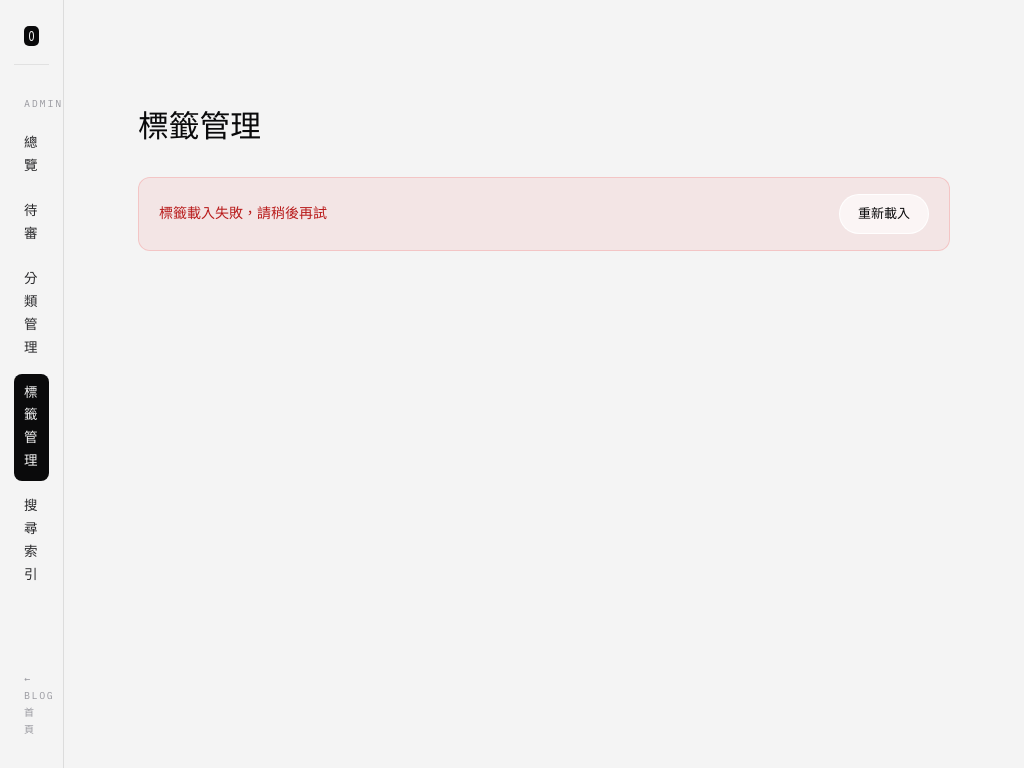
Test: AdminTagsView › 初始載入 › 載入失敗後點擊重試按鈕會重新呼叫 getTagsFull，成功後離開錯誤狀態
Expected: the message "標籤載入失敗，請稍後再試 重新載入" is shown, [138,177,950,251]
Click the button with test id "admin-tags-retry-btn" at (884, 214), box [839,194,929,234]
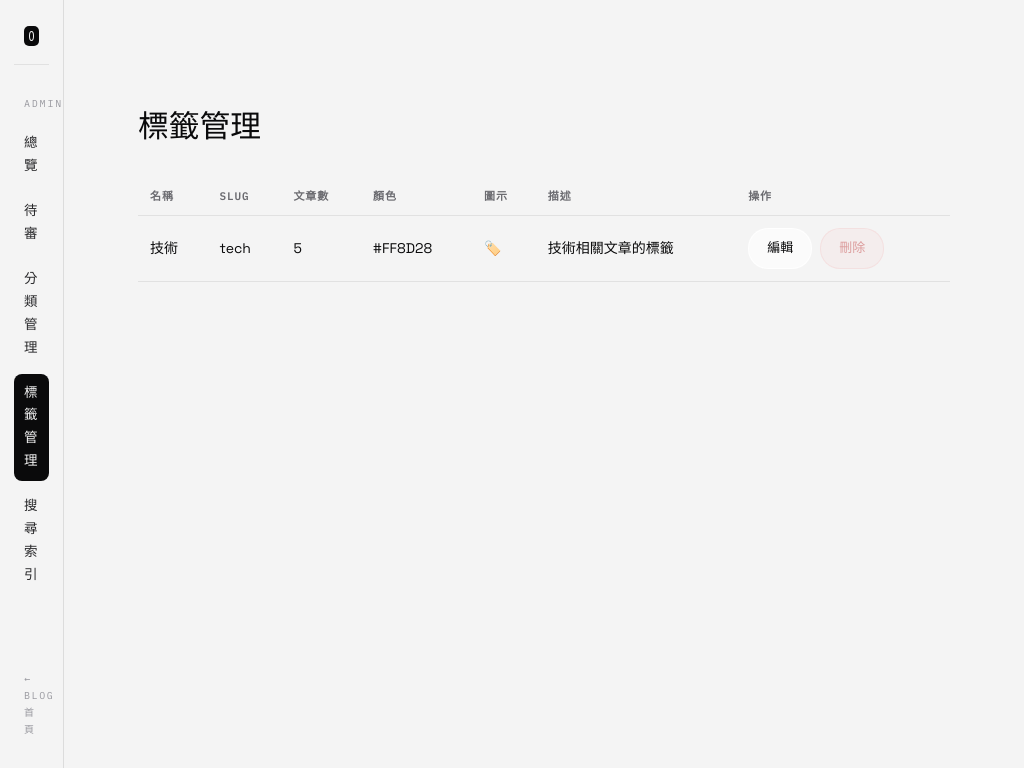
Expected: the message with test id "admin-tags-error" is gone
Expected: the row with test id "admin-tags-row-tag-uuid-1" is shown, [138,216,950,282]
